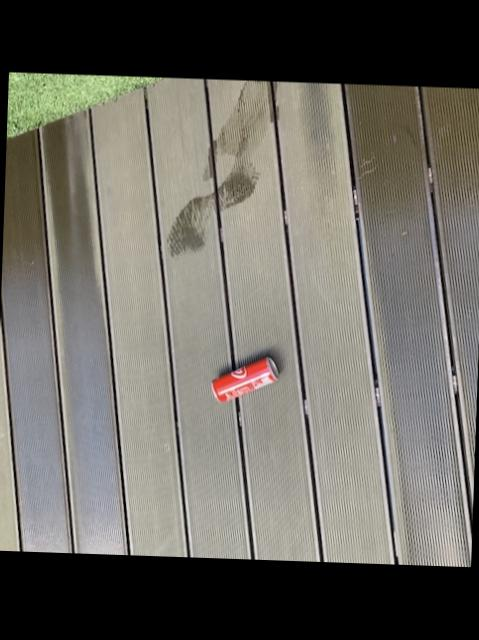metal: (211, 358, 276, 401)
